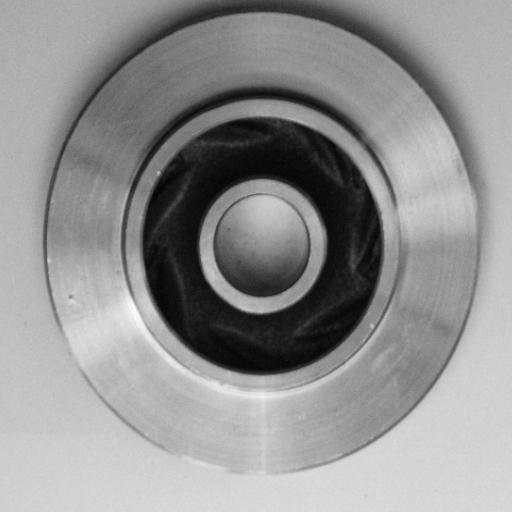scratch: (168, 430, 261, 488)
unpolished_casting: (44, 9, 481, 478)
